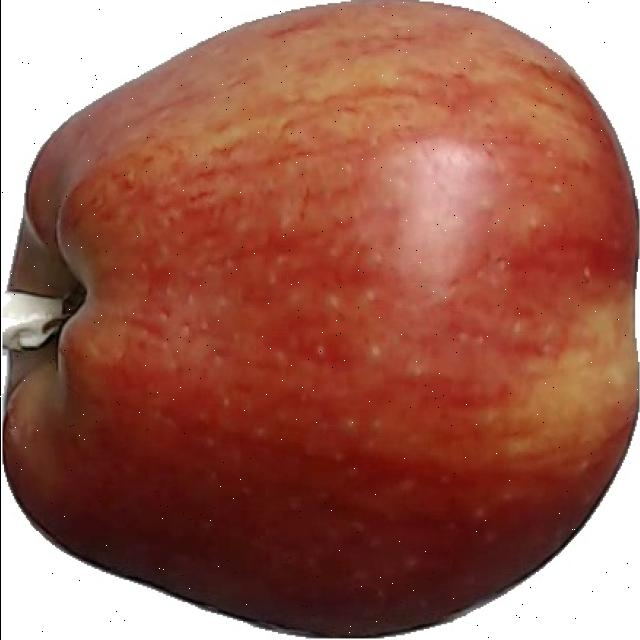apple: (0, 0, 637, 640)
